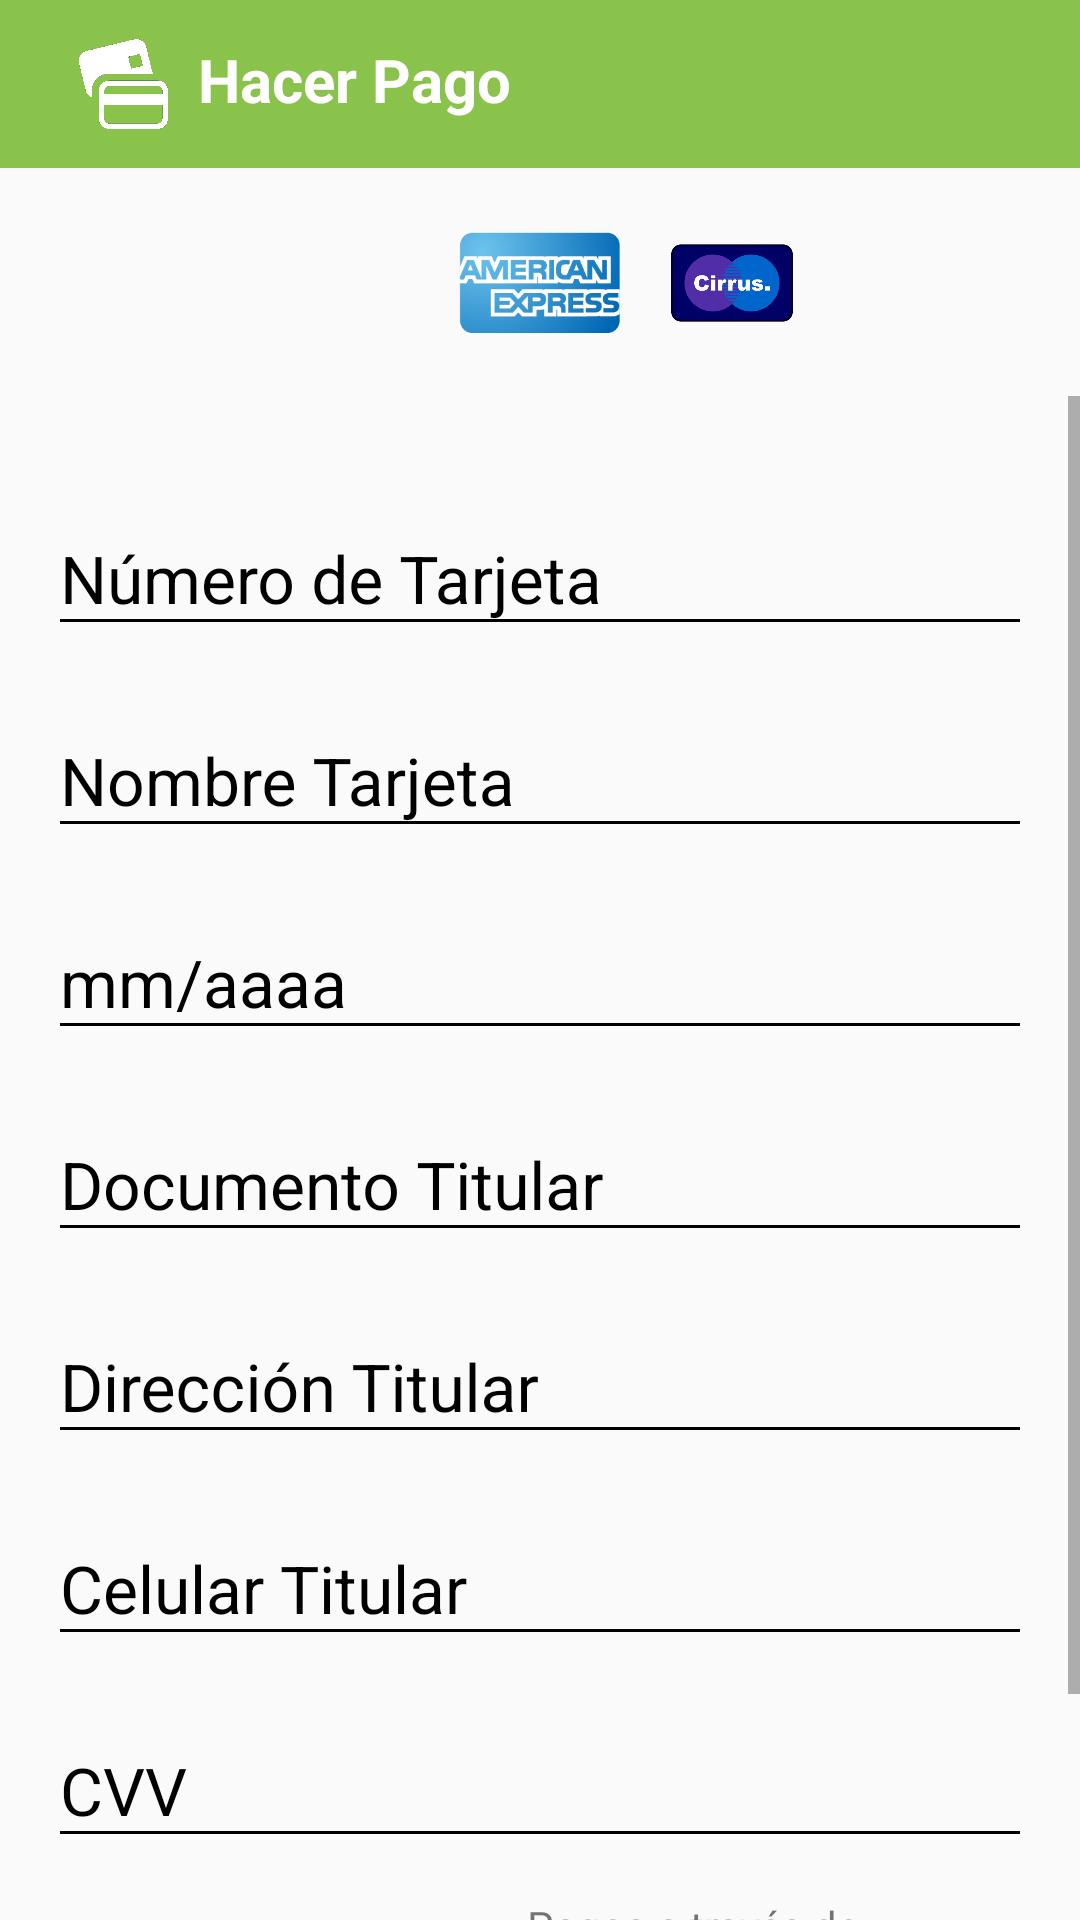

Icons on this 1080×1920 Android screen, each with its box as (x1, y1, x2, y2):
payment: (79, 39, 168, 129)
